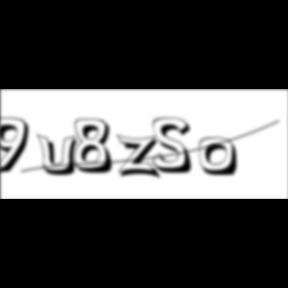8: (74, 117, 120, 176)
9: (0, 117, 36, 177)
S: (153, 117, 199, 176)
o: (199, 137, 241, 179)
u: (37, 132, 85, 178)
z: (116, 134, 166, 182)
